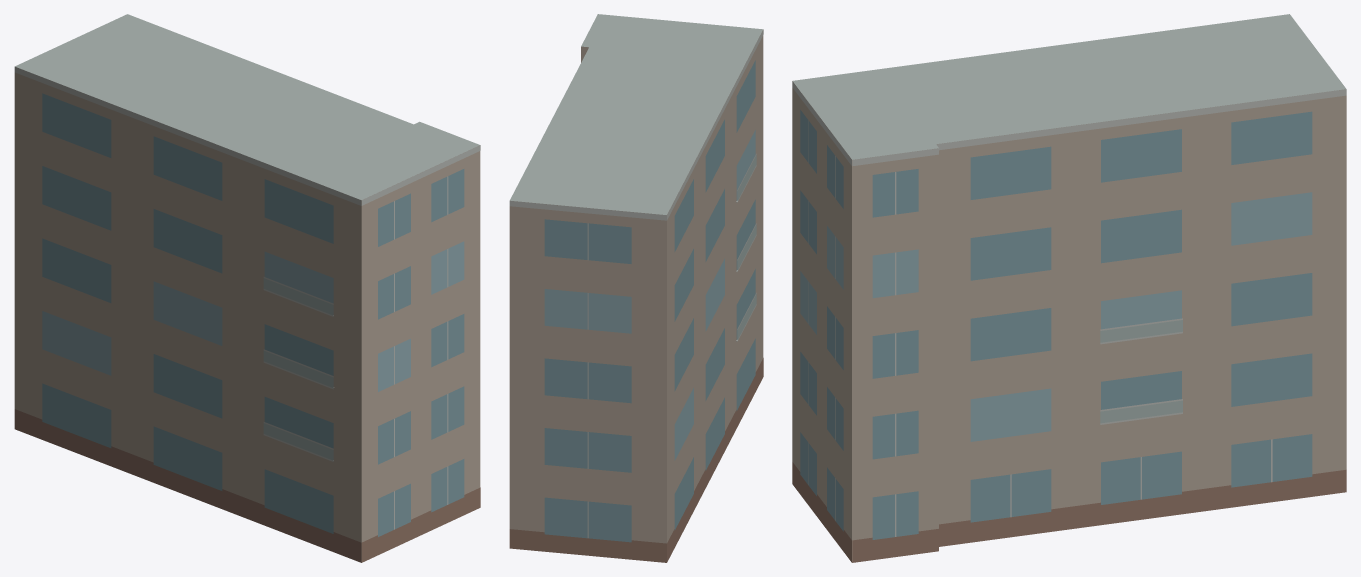
File: survey-upis-32620549.glb
3 views of the same model, side by side, from view 1: azimuth 30°, elevation 25°; view 2: azimuth 150°, elevation 25°; view 3: azimuth 270°, elevation 25° (orthographic). The views are drawn at different scales.
Parts seen in each view (by area): view 1: survey-upis-32620549.tmp; view 2: survey-upis-32620549.tmp; view 3: survey-upis-32620549.tmp.
Part boxes in pixels (<box>): survey-upis-32620549.tmp: <box>14,14,480,562</box>; survey-upis-32620549.tmp: <box>509,14,763,562</box>; survey-upis-32620549.tmp: <box>792,14,1346,562</box>.
Size of the model in its own units: 11.88 by 15.3 by 19.08.
